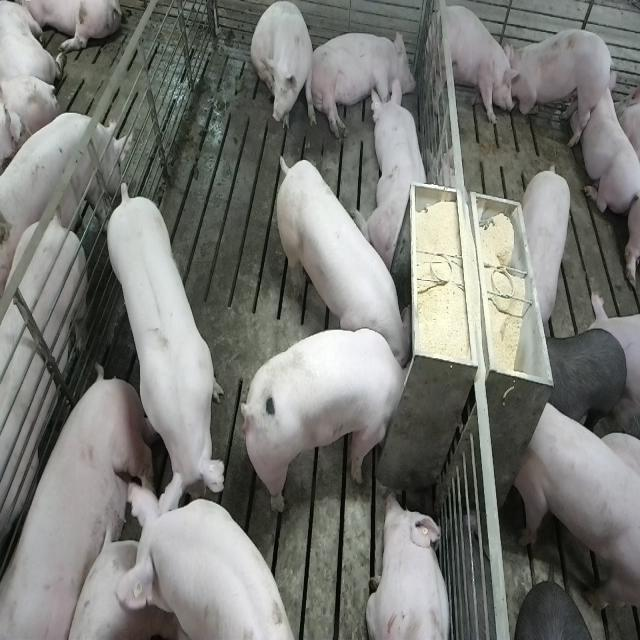Feeding: (245, 326, 418, 516), (274, 150, 410, 364)
Lateral_lying: (3, 366, 158, 640), (308, 27, 418, 140)
Sitting: (251, 3, 316, 140)
Standing: (105, 180, 227, 522), (0, 209, 90, 604), (115, 482, 294, 640), (514, 395, 638, 611), (0, 108, 126, 278), (509, 27, 614, 147), (429, 2, 518, 132), (545, 327, 630, 437), (521, 160, 574, 328)
Sternal_lying: (358, 77, 431, 266), (365, 489, 453, 640), (579, 72, 639, 216)
